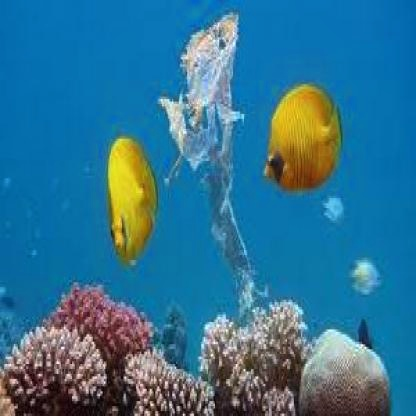pbag: (155, 7, 273, 312)
